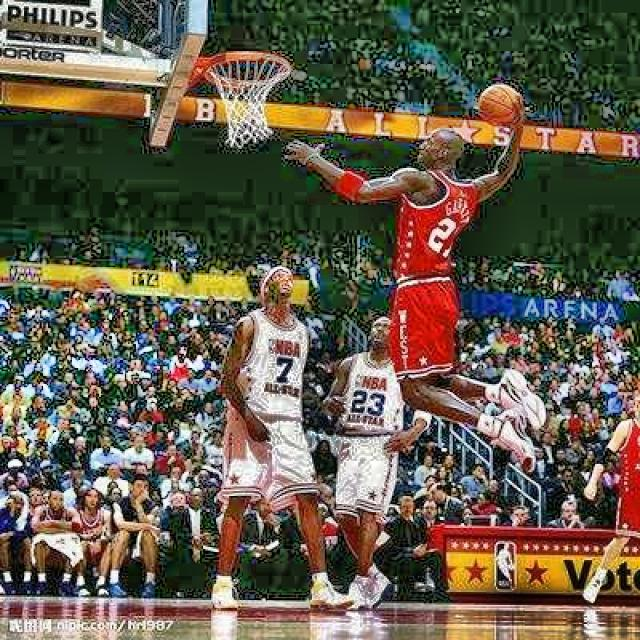board: (478, 86, 517, 126)
rim: (203, 52, 293, 146)
